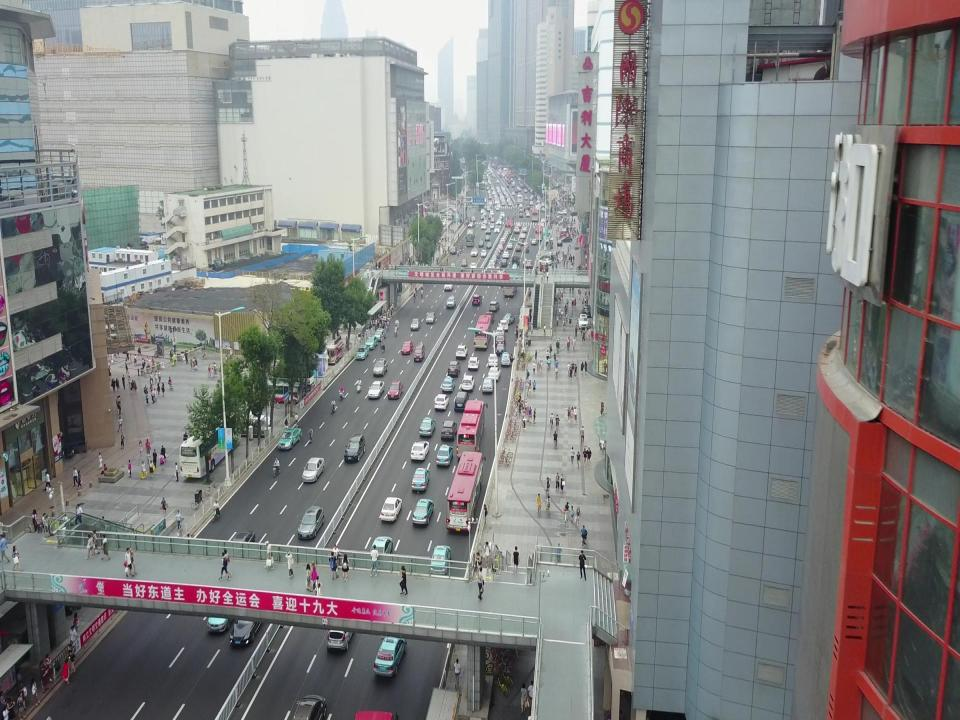bus: (178, 408, 241, 478), (445, 451, 483, 532), (456, 400, 484, 459), (253, 378, 303, 405), (271, 363, 314, 383), (474, 314, 493, 349), (502, 281, 518, 297), (466, 229, 474, 247), (504, 219, 513, 235), (535, 226, 543, 241), (531, 208, 539, 221)
car: (372, 634, 406, 679), (229, 617, 262, 647), (298, 506, 324, 541), (292, 694, 327, 720), (431, 545, 451, 576), (325, 628, 353, 650), (344, 434, 365, 463), (379, 497, 402, 522), (412, 499, 434, 525), (277, 427, 301, 450), (302, 457, 324, 482), (205, 611, 230, 632), (370, 536, 392, 556), (411, 468, 430, 491), (229, 532, 256, 546), (436, 445, 454, 466), (411, 441, 429, 460), (440, 420, 456, 440), (367, 381, 385, 398), (419, 418, 435, 437), (388, 381, 404, 399), (372, 358, 388, 376), (433, 393, 449, 411), (454, 391, 468, 410), (441, 376, 455, 392), (355, 345, 369, 360), (461, 376, 475, 391), (487, 367, 501, 381), (448, 361, 460, 377), (576, 314, 588, 330), (401, 340, 413, 355), (455, 344, 467, 358), (482, 378, 493, 393), (581, 304, 592, 318), (374, 328, 386, 340), (467, 357, 479, 369), (502, 313, 514, 325), (410, 317, 420, 331), (488, 353, 498, 367), (501, 353, 511, 366), (538, 254, 554, 262), (489, 301, 500, 312), (497, 320, 508, 331), (426, 312, 436, 324), (495, 343, 505, 355), (446, 296, 456, 307), (472, 294, 482, 305), (484, 311, 494, 322), (538, 259, 552, 266), (495, 336, 505, 345), (536, 265, 548, 272), (560, 236, 572, 243), (443, 282, 453, 290), (496, 327, 504, 336), (460, 259, 468, 267), (470, 248, 478, 256), (500, 259, 508, 267), (557, 209, 567, 215), (502, 251, 510, 258), (524, 261, 532, 268), (450, 246, 456, 255), (485, 228, 491, 236), (481, 250, 487, 257), (478, 241, 484, 248), (486, 242, 492, 249), (494, 226, 500, 233), (481, 224, 487, 231), (468, 221, 474, 228), (507, 243, 513, 250), (516, 245, 522, 252), (523, 246, 529, 253), (531, 239, 538, 245), (513, 226, 519, 233), (519, 232, 525, 239), (557, 239, 563, 246), (469, 263, 477, 268), (450, 263, 456, 269), (518, 240, 524, 246), (515, 223, 521, 228), (522, 227, 528, 232), (518, 212, 524, 217), (485, 236, 490, 241), (525, 212, 530, 217)
van: (414, 344, 424, 363), (511, 255, 520, 267)
